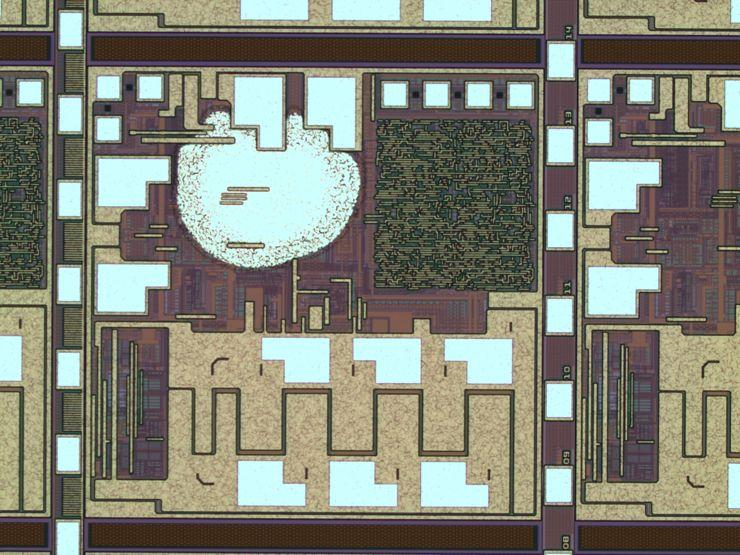BLOCK ETCH: (169, 97, 373, 276)
